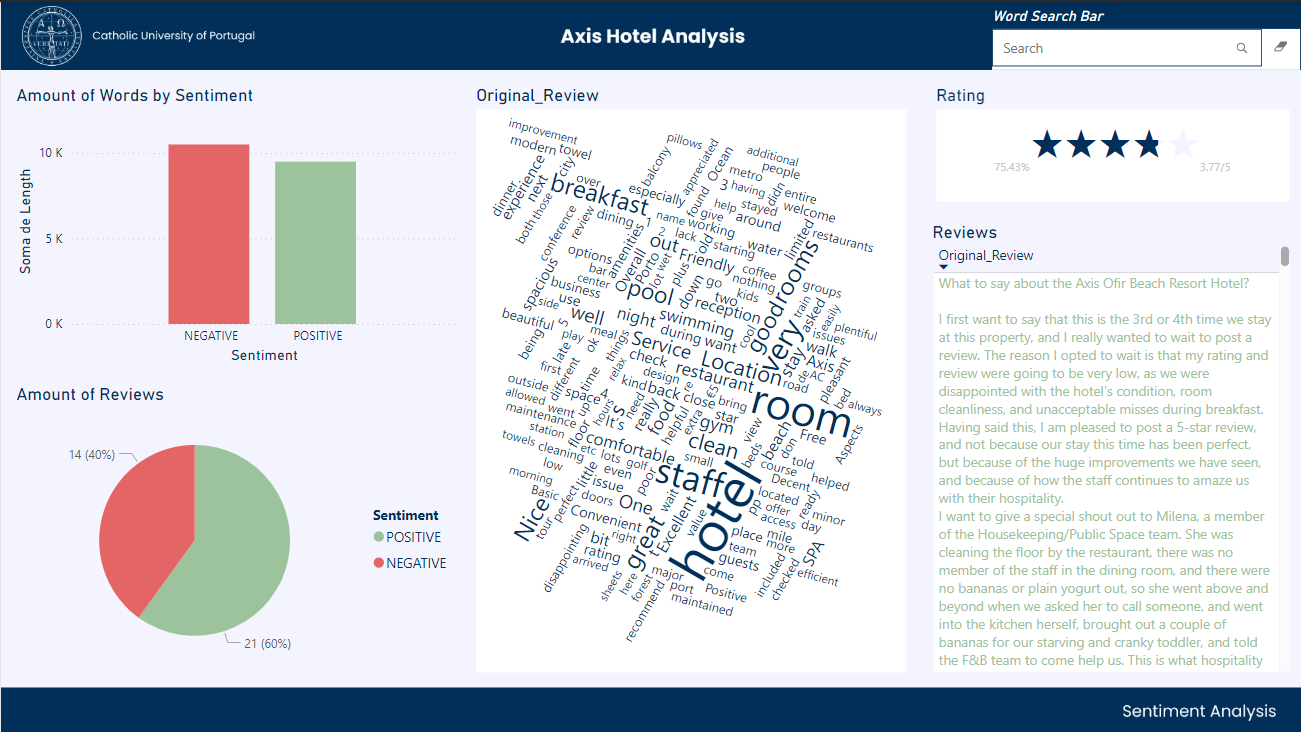

The page's visual inventory and layout, read from the dashboard file:
{"tool":"powerbi","page":{"name":"Dashboard","canvas":[1280,720],"ordinal":0},"visuals":[{"type":"clusteredColumnChart","title":"Amount of Words by Sentiment ","fields":{"Category":["Sentiment_analysis.Sentiment"],"Y":["Sum(Sentiment_analysis.Length)"]},"box":[0,66.7,451.9,292.6],"z":0},{"type":"pieChart","title":"Amount of Reviews ","fields":{"Category":["Sentiment_analysis.Sentiment"],"Y":["CountNonNull(Sentiment_analysis.Sentiment)"]},"box":[0,359.3,451.9,313.6],"z":1000},{"type":"tableEx","title":"Reviews","fields":{"Values":["Sentiment_analysis.Original_Review"]},"box":[904.3,200,375.5,472.4],"z":2000},{"type":"textFilter25A4896A83E0487089E2B90C9AE57C8A","title":"Word Search-Bar","fields":{"field":["Sentiment_analysis.Original_Review"]},"box":[967.5,0,312.5,66.2],"z":4000},{"type":"WordCloud1447959067750","fields":{"Category":["Sentiment_analysis.Original_Review"]},"box":[451.9,66.7,451.9,606.2],"z":5000},{"type":"ratingsvisual001","title":"Rating","fields":{"measure":["Sentiment_analysis.rating_avg"]},"box":[903.1,66.3,375.5,133.7],"z":5001}]}

Visuals, with their boxes in screenshot pixels (x1, y1, x2, y2), scaled from the page's 1280x720 canvas onto the 1301x732 screenshot:
"Amount of Words by Sentiment " clusteredColumnChart: <box>0,68,459,365</box>
"Amount of Reviews " pieChart: <box>0,365,459,684</box>
"Reviews" tableEx: <box>919,203,1300,684</box>
"Word Search-Bar" textFilter25A4896A83E0487089E2B90C9AE57C8A: <box>983,0,1300,67</box>
WordCloud1447959067750 - Sentiment_analysis.Original_Review: <box>459,68,919,684</box>
"Rating" ratingsvisual001: <box>918,67,1300,203</box>
